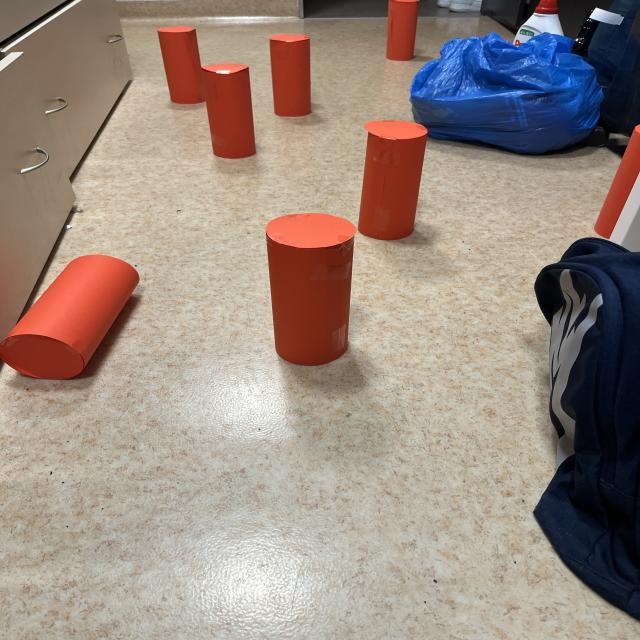przeszkoda: (0, 255, 139, 379), (266, 213, 357, 365), (359, 121, 427, 239), (202, 63, 255, 158), (158, 26, 205, 104), (270, 34, 310, 117), (386, 0, 418, 60)
